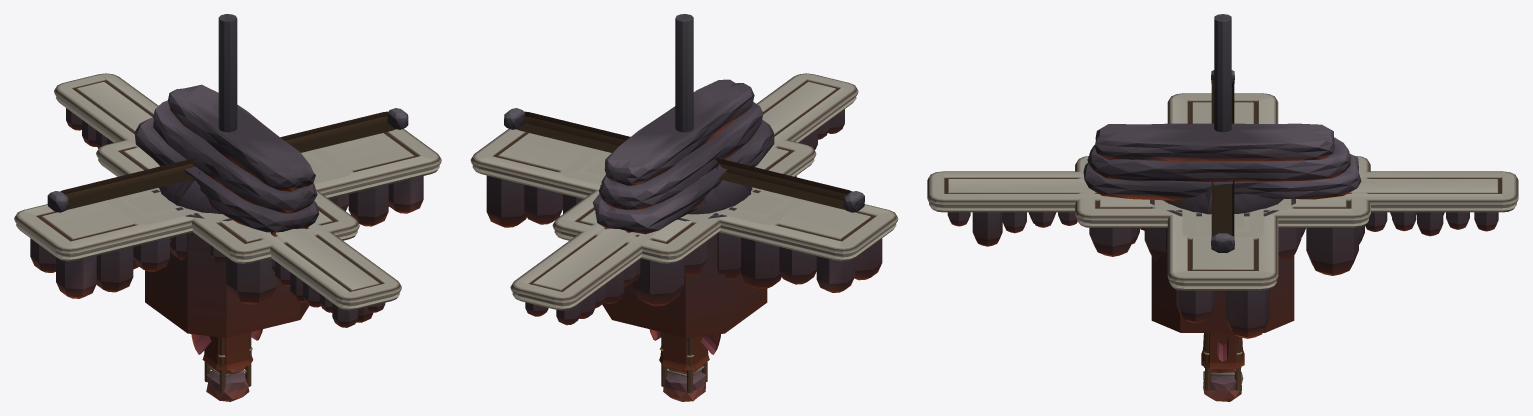
The model's file is volcano-5-CrSgZfNX.glb.
The picture shows the model from 3 angles, left to right: view 1: azimuth 30°, elevation 25°; view 2: azimuth 150°, elevation 25°; view 3: azimuth 270°, elevation 25°; orthographic projection.
Visible parts, largest first — view 1: block_24x2x6#0, spout_2x12#0, block_4x2x32_grate#0, block_8x2x16#0, mount_10.6#0, block_7x2x8_ledge#0, block_8x2x7_ledge#0, block_14x2x5#0, press_7x6x4#0, truss_11.6#0, support_1_ledge_square#0, geyserVent_3#0 (+1 smaller); view 2: block_24x2x6#0, spout_2x12#0, block_4x2x32_grate#0, block_8x2x16#0, mount_10.6#0, block_7x2x8_ledge#0, block_8x2x7_ledge#0, block_14x2x5#0, press_7x6x4#0, truss_11.6#0, support_1_ledge_square#0, geyserVent_3#0 (+1 smaller); view 3: spout_2x12#0, block_4x2x32_grate#0, block_24x2x6#0, block_8x2x16#0, block_7x2x8_ledge#0, press_7x6x4#0, mount_10.6#0, block_8x2x7_ledge#0, block_14x2x5#0, geyserVent_3#0, truss_11.6#0, support_1_ledge_square#0.
Part boxes in pixels (box(x1,y1,x2,y2)): block_24x2x6#0: box(14, 128, 441, 298); spout_2x12#0: box(134, 84, 319, 235); block_4x2x32_grate#0: box(54, 73, 401, 327); block_8x2x16#0: box(96, 140, 359, 304); mount_10.6#0: box(47, 108, 408, 212); block_7x2x8_ledge#0: box(157, 166, 303, 337); block_8x2x7_ledge#0: box(145, 189, 309, 336); block_14x2x5#0: box(106, 148, 354, 242); press_7x6x4#0: box(218, 14, 237, 132); truss_11.6#0: box(204, 347, 252, 401); support_1_ledge_square#0: box(202, 332, 253, 370); geyserVent_3#0: box(159, 170, 221, 213); block_24x2x6#0: box(470, 129, 898, 292); spout_2x12#0: box(592, 79, 774, 234); block_4x2x32_grate#0: box(510, 73, 858, 325); block_8x2x16#0: box(552, 140, 816, 306); mount_10.6#0: box(504, 108, 864, 212); block_7x2x8_ledge#0: box(608, 214, 717, 337); block_8x2x7_ledge#0: box(600, 185, 767, 336); block_14x2x5#0: box(558, 148, 806, 225); press_7x6x4#0: box(675, 14, 693, 132); truss_11.6#0: box(659, 347, 707, 401); support_1_ledge_square#0: box(659, 333, 709, 370); geyserVent_3#0: box(687, 164, 752, 214); spout_2x12#0: box(1083, 123, 1361, 200); block_4x2x32_grate#0: box(927, 171, 1518, 246); block_24x2x6#0: box(1167, 93, 1278, 338); block_8x2x16#0: box(1075, 155, 1370, 275); block_7x2x8_ledge#0: box(1150, 199, 1295, 328); press_7x6x4#0: box(1214, 14, 1231, 132); mount_10.6#0: box(1211, 70, 1234, 252); block_8x2x7_ledge#0: box(1161, 210, 1275, 332); block_14x2x5#0: box(1182, 209, 1263, 240); geyserVent_3#0: box(1163, 188, 1283, 214); truss_11.6#0: box(1203, 351, 1243, 401); support_1_ledge_square#0: box(1201, 333, 1244, 368).
Size of the model in its own units: 24 by 22.67 by 32.
